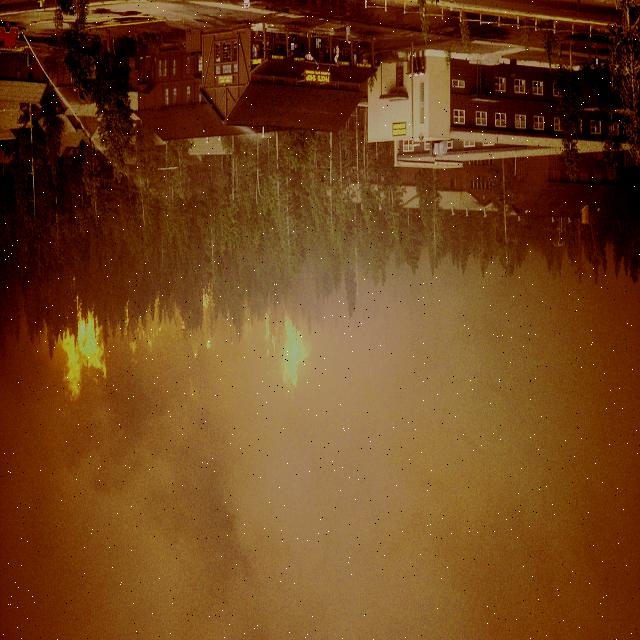api: (65, 312, 111, 398), (279, 317, 298, 397)
asap: (88, 410, 270, 639)
